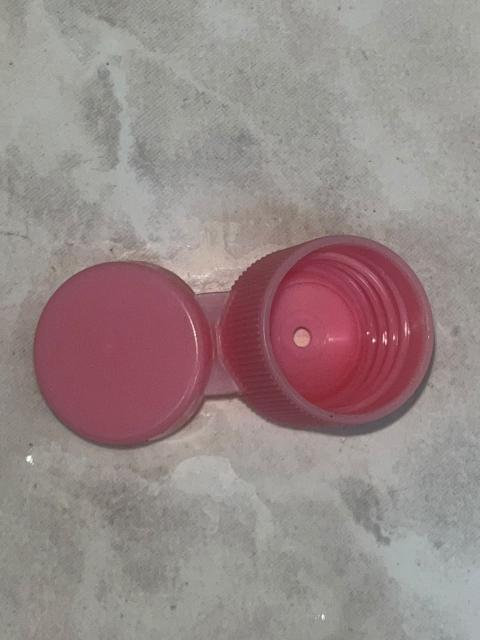HDPE: (2, 188, 480, 480)
